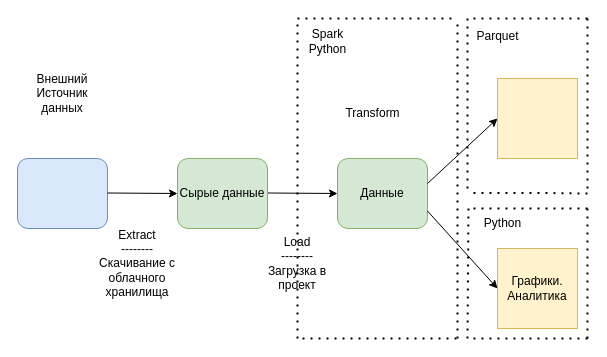
Image size: 607x357. Some labels were removed from this diagram. Each missing label, with the centre of its shape:
yellow_trips.csv: (x=62, y=193)
Витрина данных: (x=537, y=118)
